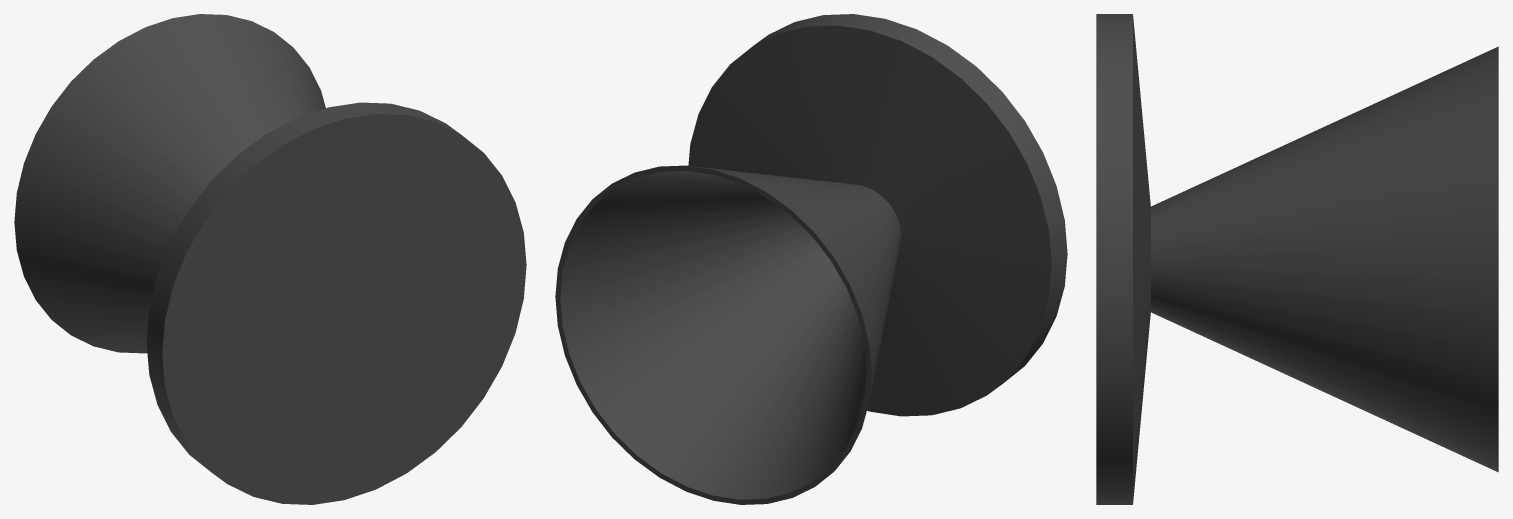
File: ph_engine.sturdy.gltf
The picture shows the model from 3 angles, left to right: view 1: azimuth 30°, elevation 25°; view 2: azimuth 150°, elevation 25°; view 3: azimuth 270°, elevation 25°; orthographic projection. The views are drawn at different scales.
Visible parts, largest first — view 1: engine; view 2: engine; view 3: engine.
Boxes of the visible parts, left/top/right/bottom form: engine: left=14, top=14, right=526, bottom=504; engine: left=555, top=14, right=1067, bottom=504; engine: left=1096, top=14, right=1498, bottom=504.
Size of the model in its own units: 1.57 by 1.57 by 1.28.
Materials: 1 (1 with a texture image).
